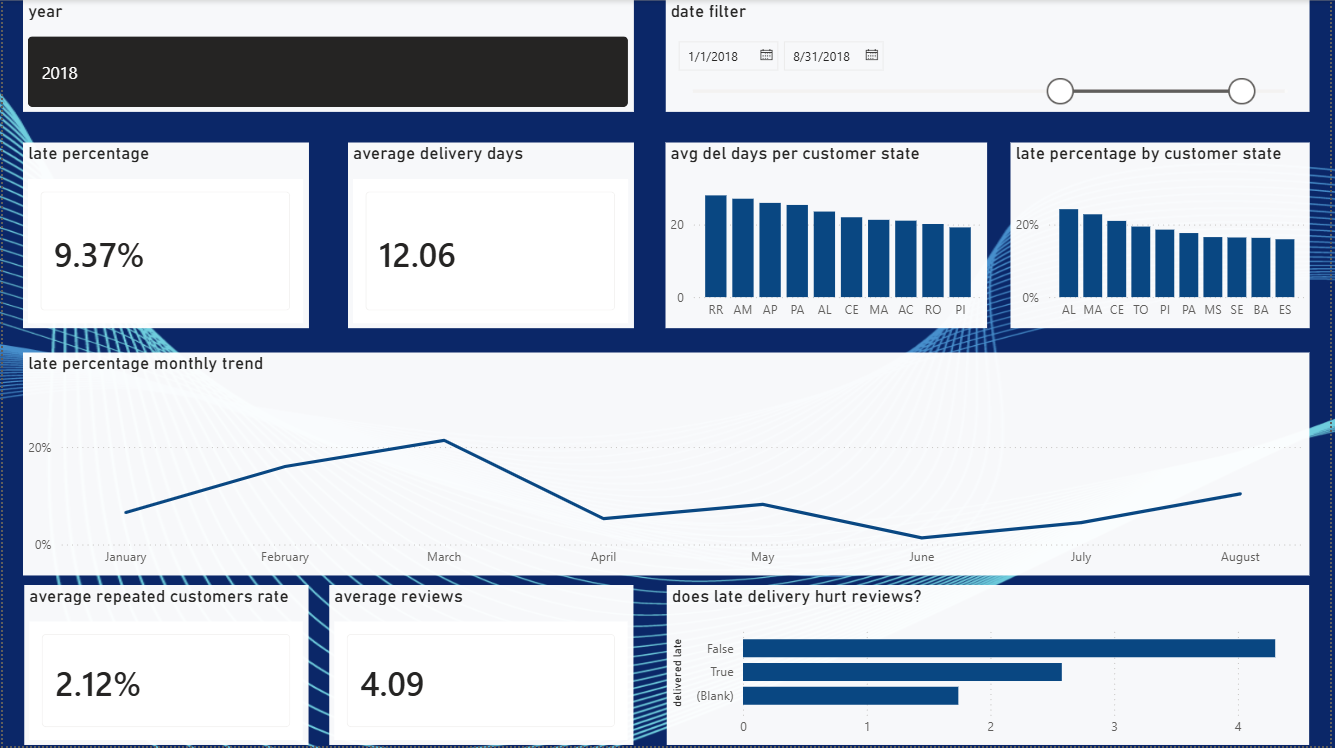

Layout of this report page (visuals, bound fields, positions):
{"tool":"powerbi","page":{"name":"customer_delivery","canvas":[1280,720],"ordinal":1},"visuals":[{"type":"cardVisual","title":"late percentage","fields":{"Data":["mart fact_orders.late_percentage"]},"box":[19.3,138,275.9,179.2],"z":0},{"type":"cardVisual","title":"average delivery days","fields":{"Data":["mart fact_order_items.average_delivery_days"]},"box":[332.6,138,275.9,179.2],"z":1000},{"type":"columnChart","title":"late percentage by customer state","fields":{"Category":["mart dim_customers.customer_state"],"Y":["mart fact_orders.late_percentage"]},"box":[972.1,138,288.8,179.2],"z":2000},{"type":"columnChart","title":"avg del days per customer state","fields":{"Category":["mart dim_customers.customer_state"],"Y":["mart fact_order_items.average_delivery_days"]},"box":[639.5,138,310.7,179.2],"z":3000},{"type":"lineChart","title":"late percentage monthly trend","fields":{"Y":["mart fact_orders.late_percentage"],"Category":["mart dim_date.month_name"]},"box":[19.3,340.4,1241.6,215.3],"z":4000},{"type":"cardVisual","title":"average repeated customers rate","fields":{"Data":["mart fact_orders.average_repeated_customers"]},"box":[20.6,564.7,274.6,154.7],"z":5000},{"type":"advancedSlicerVisual","fields":{"Values":["mart dim_date.year"]},"box":[19.3,0,589.2,108.3],"z":6000},{"type":"slicer","title":"date filter","fields":{"Values":["mart dim_date.date_key"]},"box":[639.5,0,621.4,108.3],"z":7000},{"type":"cardVisual","title":"average reviews","fields":{"Data":["mart fact_orders.average_reviews"]},"box":[314.6,564.7,294,154.7],"z":8000},{"type":"barChart","title":"does late delivery hurt reviews?","fields":{"Category":["mart fact_orders.is_late"],"Y":["mart fact_orders.average_reviews"]},"box":[640.8,564.7,620.1,154.7],"z":9000}]}

Visuals, with their boxes in screenshot pixels (x1, y1, x2, y2), scaled from the page's 1280x720 canvas onto the 1335x748 screenshot:
"late percentage" cardVisual: BBox(20, 143, 308, 330)
"average delivery days" cardVisual: BBox(347, 143, 635, 330)
"late percentage by customer state" columnChart: BBox(1014, 143, 1315, 330)
"avg del days per customer state" columnChart: BBox(667, 143, 991, 330)
"late percentage monthly trend" lineChart: BBox(20, 354, 1315, 577)
"average repeated customers rate" cardVisual: BBox(21, 587, 308, 747)
advancedSlicerVisual - mart dim_date.year: BBox(20, 0, 635, 113)
"date filter" slicer: BBox(667, 0, 1315, 113)
"average reviews" cardVisual: BBox(328, 587, 635, 747)
"does late delivery hurt reviews?" barChart: BBox(668, 587, 1315, 747)
